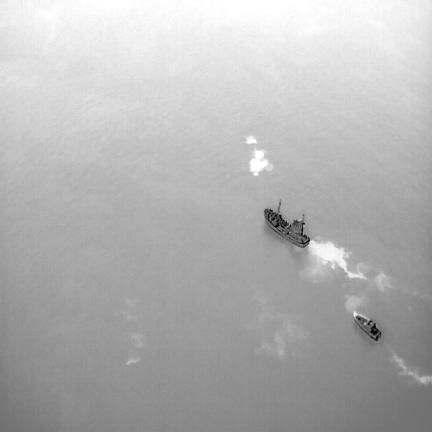flukeprints: (250, 148, 271, 175), (246, 136, 256, 144)
